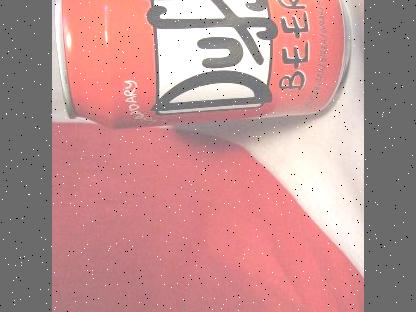Can: (53, 0, 350, 128)
